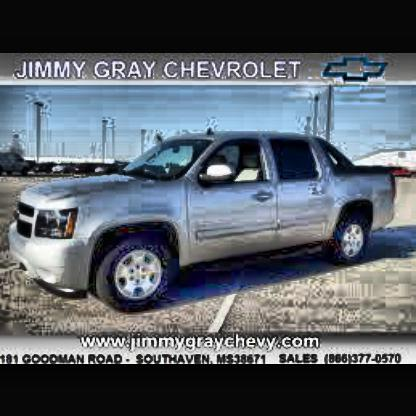Chevrolet Avalanche Crew Cab 2012: (14, 130, 401, 314)
